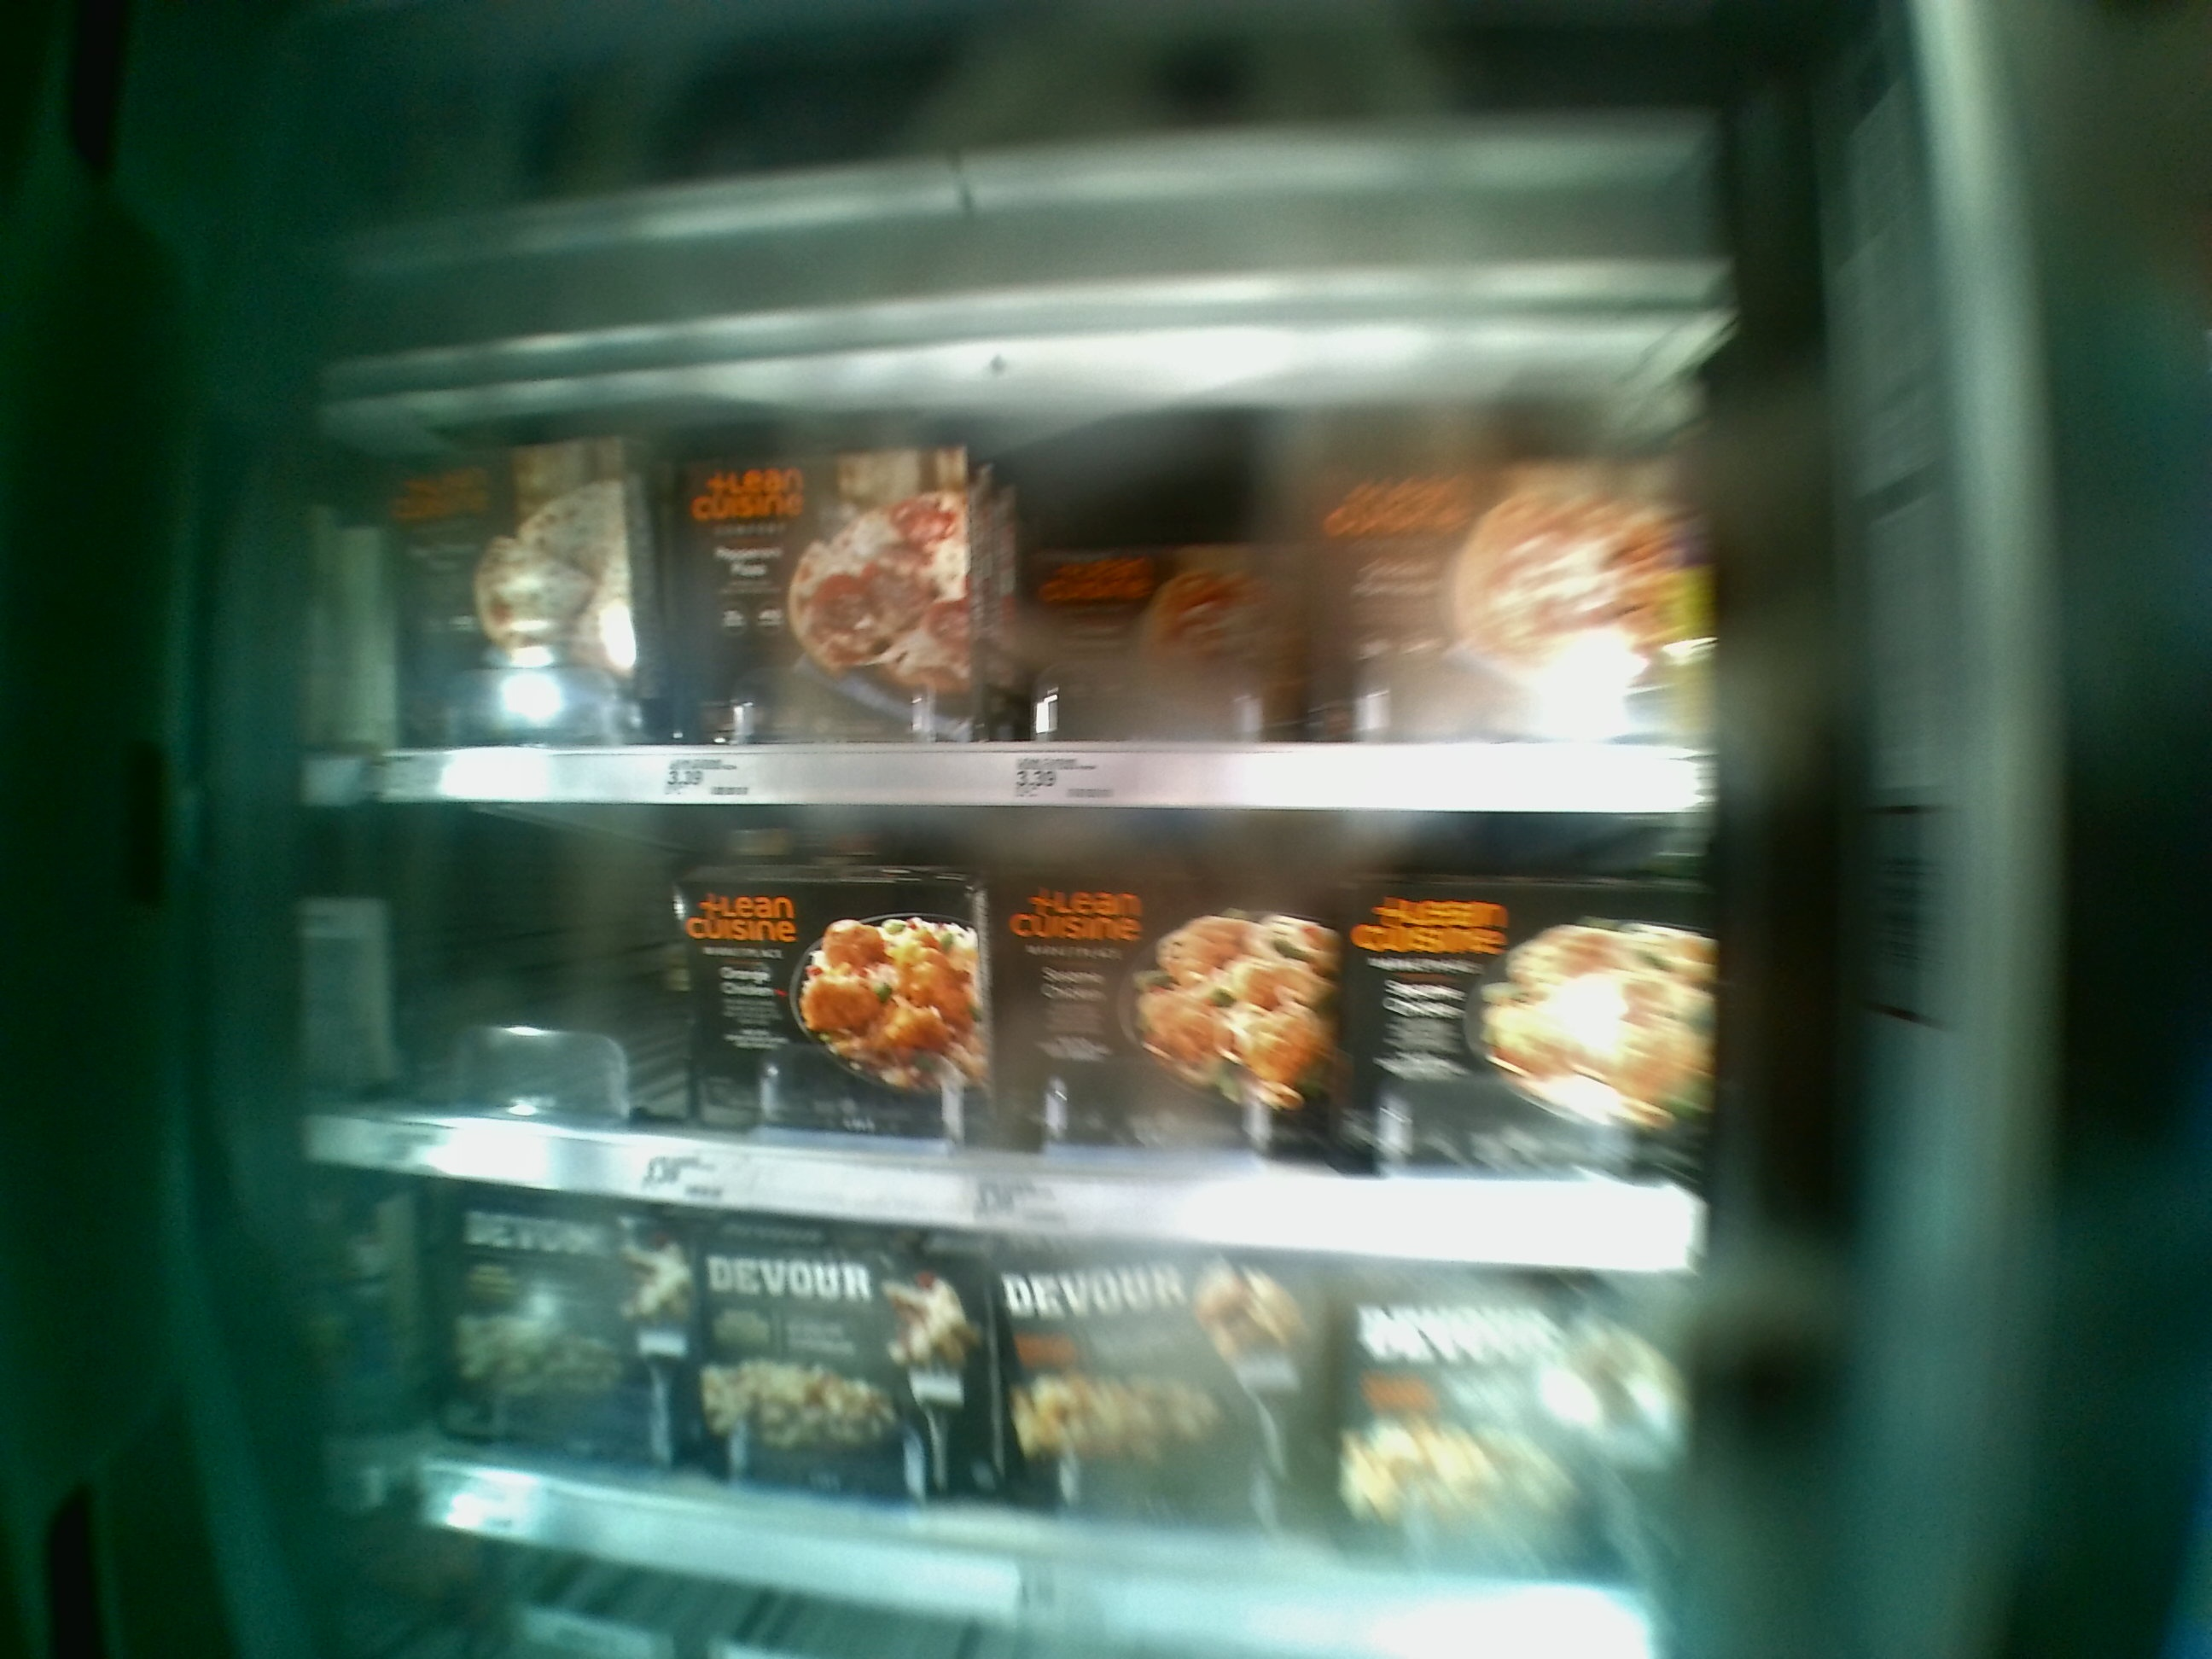shelf: (315, 336, 1703, 817), (298, 809, 1700, 1276)
